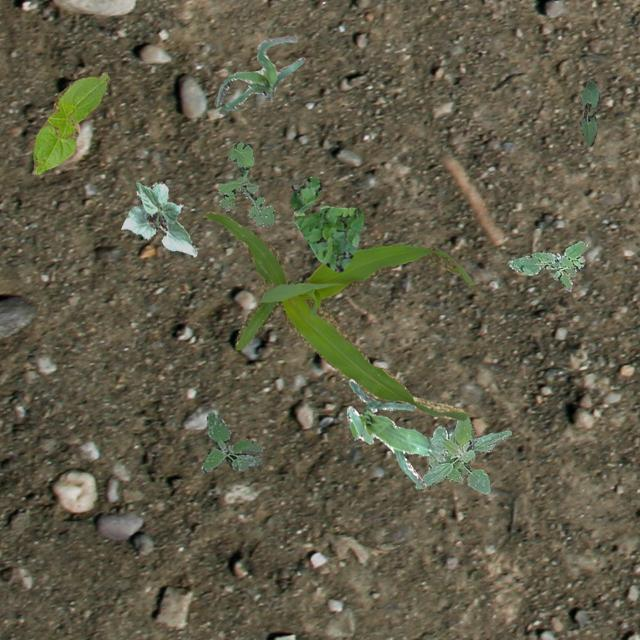crop: (205, 210, 472, 420), (346, 378, 444, 488), (32, 72, 108, 174), (213, 34, 304, 114), (420, 414, 510, 492), (120, 180, 196, 256), (578, 80, 598, 146)
weed: (290, 176, 362, 270), (216, 140, 274, 227), (507, 240, 588, 290), (200, 411, 264, 472)
